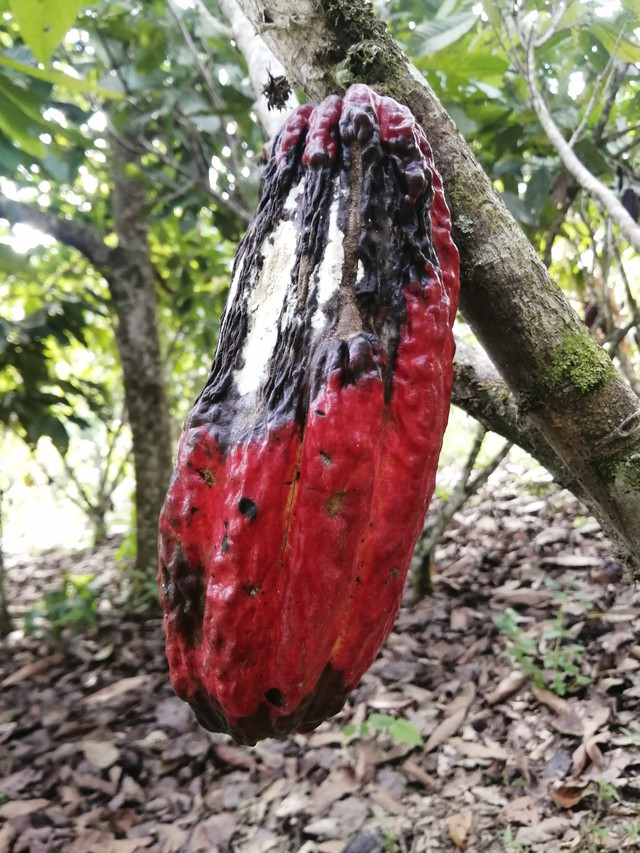moniliophthora roreri: (118, 68, 500, 756)
